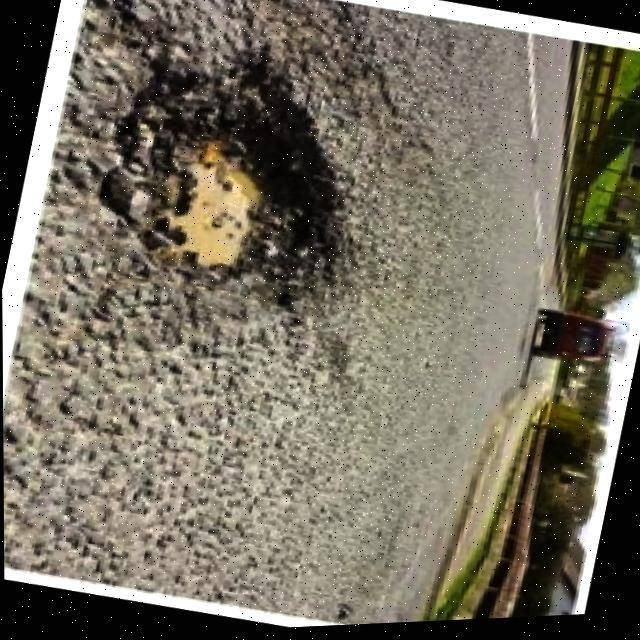pothole: (103, 44, 362, 311)
